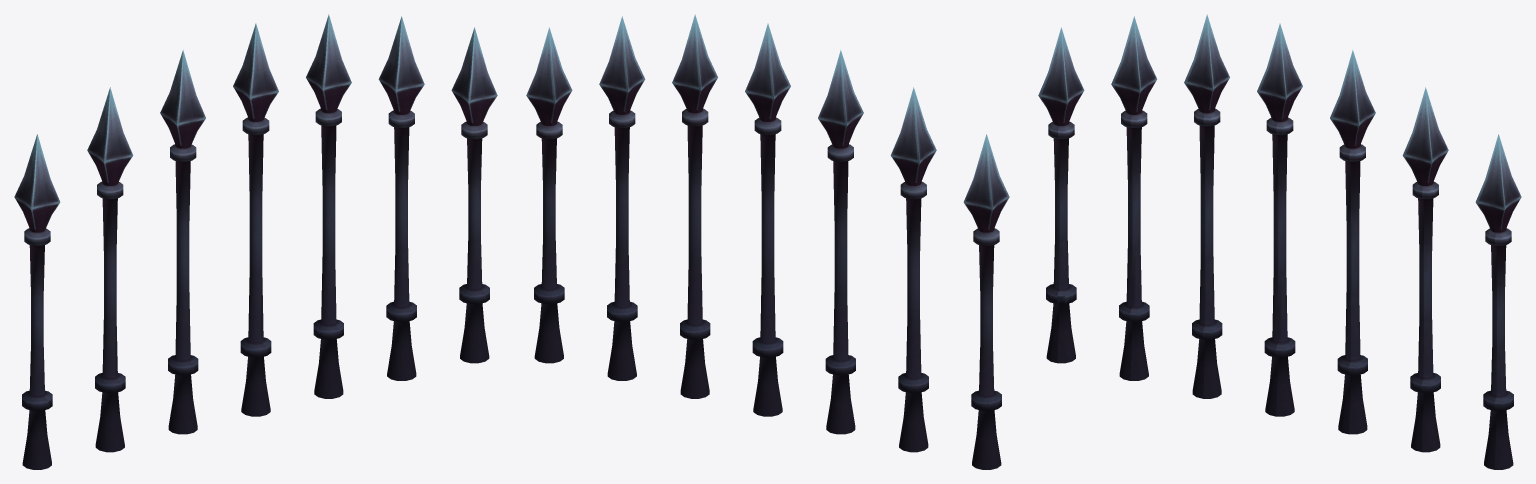
The model's file is Storm_Building_WinterCrest_Gate_00_Sc2.obj.
3 renders of one model, left to right at view 1: azimuth 30°, elevation 25°; view 2: azimuth 150°, elevation 25°; view 3: azimuth 330°, elevation 25°, orthographic.
Parts seen in each view (by area): view 1: Mesh_1; view 2: Mesh_1; view 3: Mesh_1.
Part boxes in pixels (left/top/right/bottom): Mesh_1: left=14, top=14, right=497, bottom=469; Mesh_1: left=526, top=14, right=1009, bottom=469; Mesh_1: left=1038, top=14, right=1521, bottom=469.
Bounding box in the file's own units: 448 × 356 × 28.11.
1 material, 1 textured.
